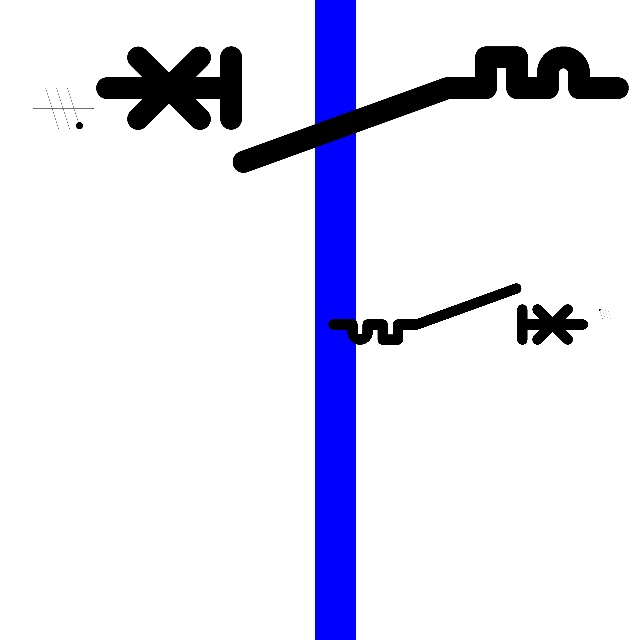interruptor_termomagnetico: (93, 44, 630, 175), (327, 282, 589, 346)
